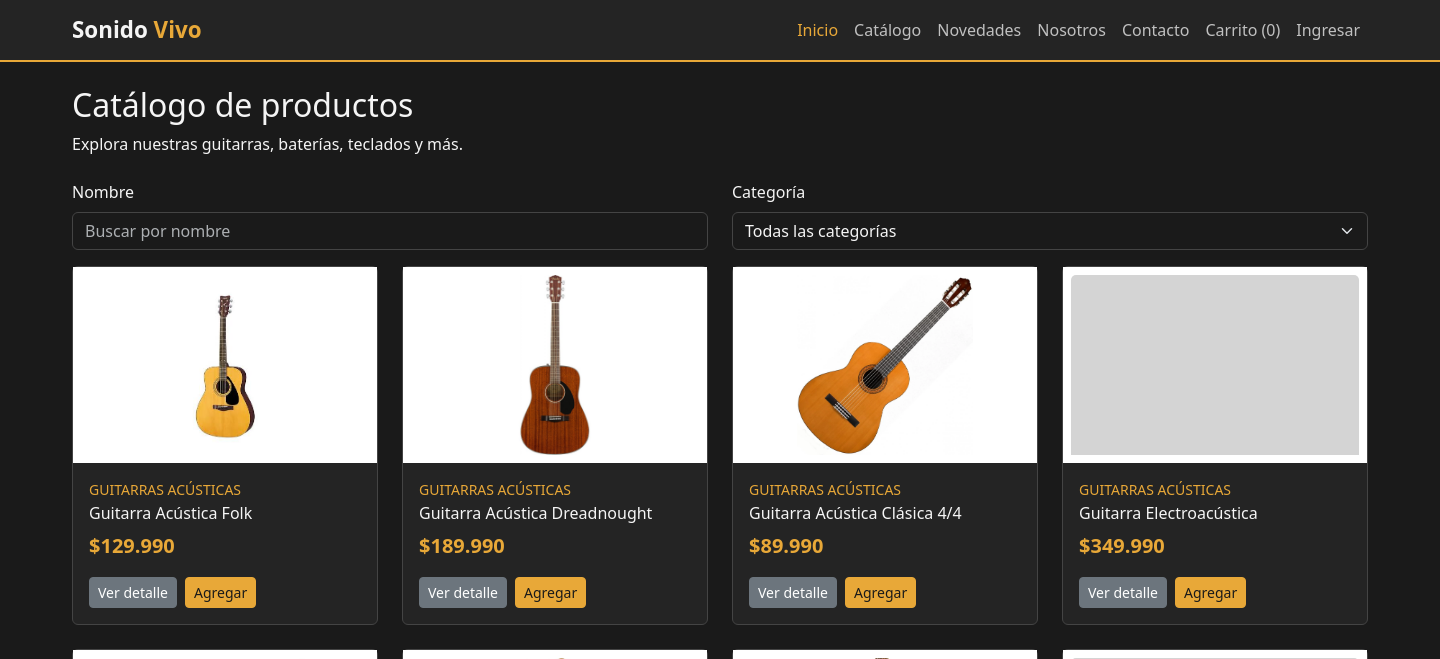
Scenario: carrito de compras › agregar el mismo producto dos veces suma la cantidad (no duplica la fila)
Click the button "Agregar" below "Guitarra Acústica Folk". click: (221, 593)
box: [185,577,256,608]
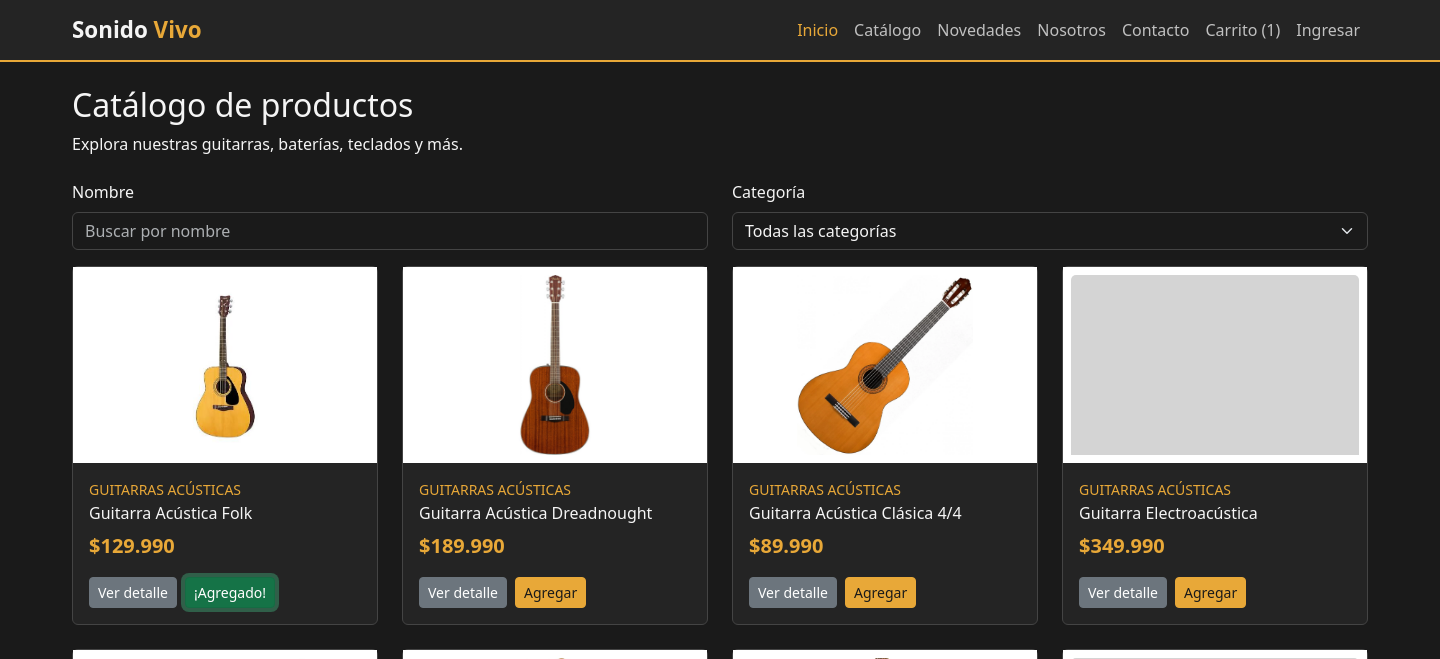
Click the button "¡Agregado!". click: (230, 593)
box: [185,577,275,608]
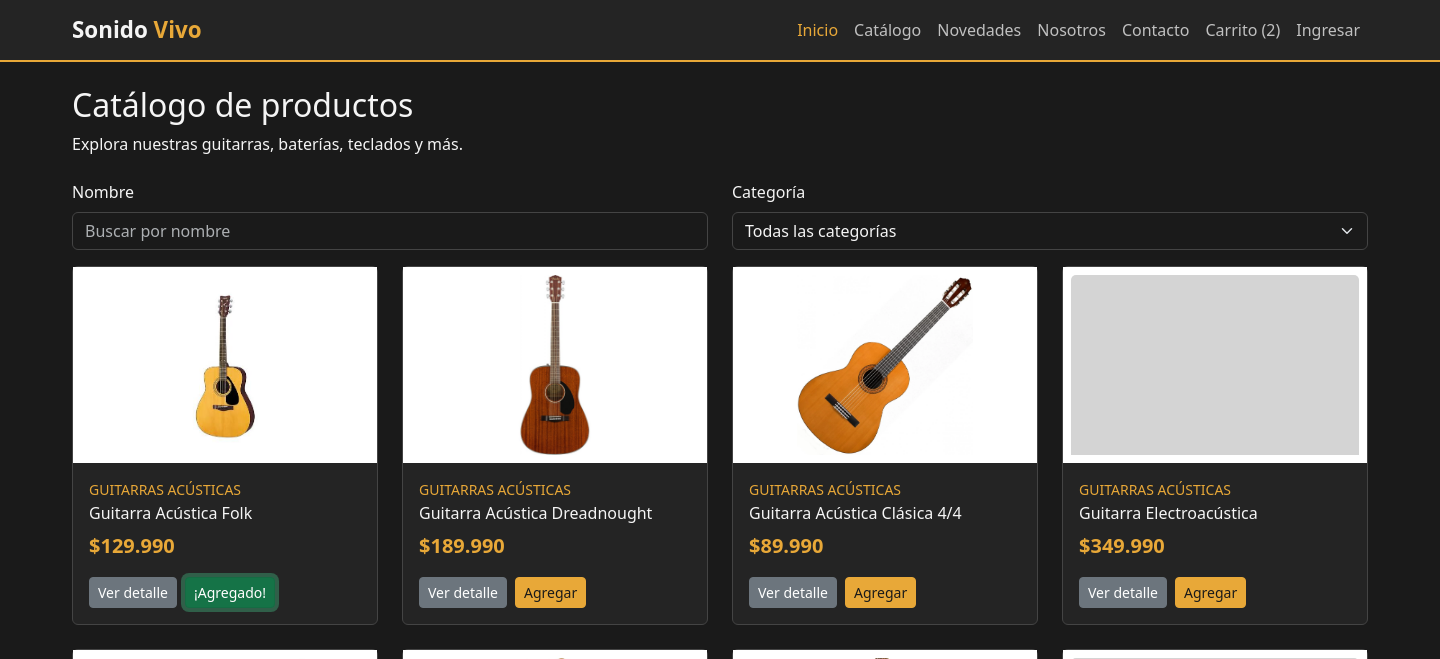
Expected: the link "Carrito (2)" is shown, [1206,19,1280,41]
